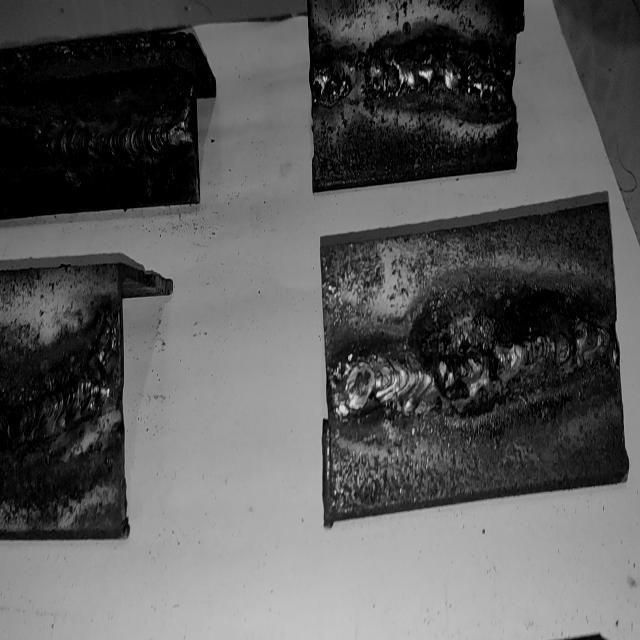Defect: (369, 44, 512, 104), (436, 296, 498, 431), (314, 60, 349, 109)
Welding Line: (336, 324, 614, 415), (0, 106, 192, 164), (5, 373, 111, 442)
Workpiece: (322, 202, 625, 516), (309, 0, 521, 190), (0, 264, 124, 540), (0, 42, 200, 208)
